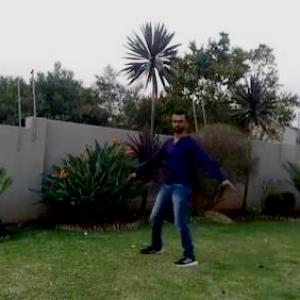land: (122, 86, 248, 292)
